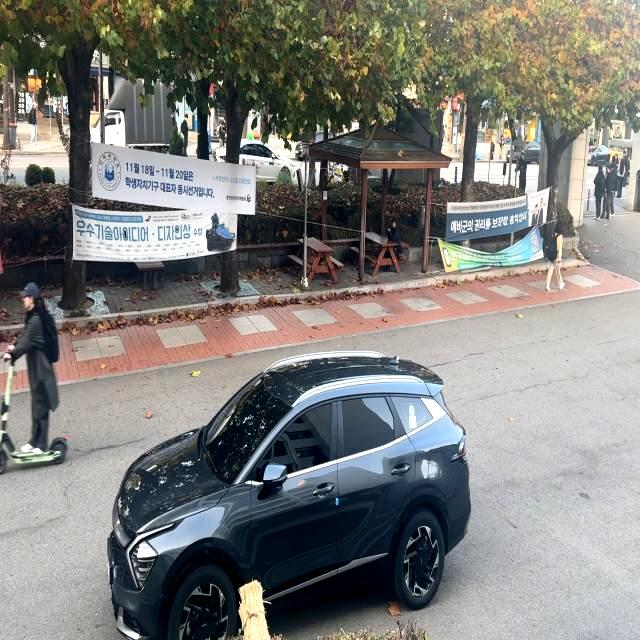bare_head: (17, 282, 60, 315)
human: (13, 279, 54, 451)
kickboard: (0, 435, 97, 483)
